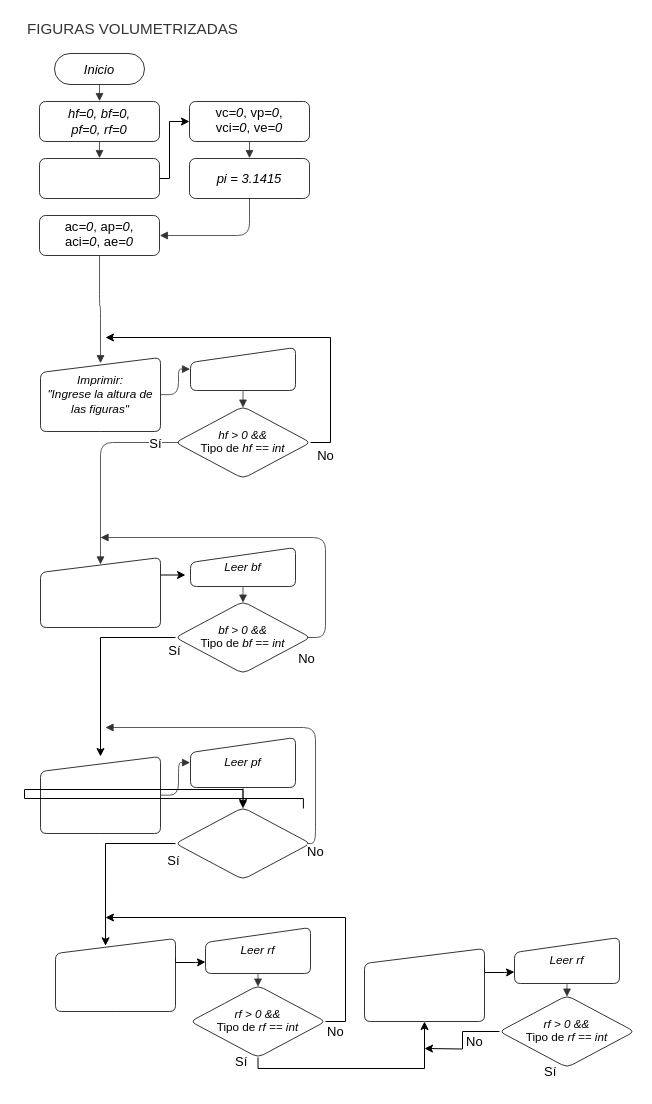
Image size: 652x1104. Some labels were removed from this diagram. Here are the shapes that lost their labels. From the top down, the centre of each, then its label:
the point at 99,178: xc=0, yc=0, zc=0
the point at 242,368: Leer hf
the point at 100,592: Imprimir: "Ingrese el ancho del paralelepipedo"
the point at 100,794: Imprimir: "Ingrese la profundidad del paralelepipedo"
the point at 242,843: pf > 0 && Tipo de pf == int
the point at 115,974: Imprimir: "Ingrese el radio de las figuras"
the point at 424,984: Imprimir: "Ingrese la altura de la caja"
